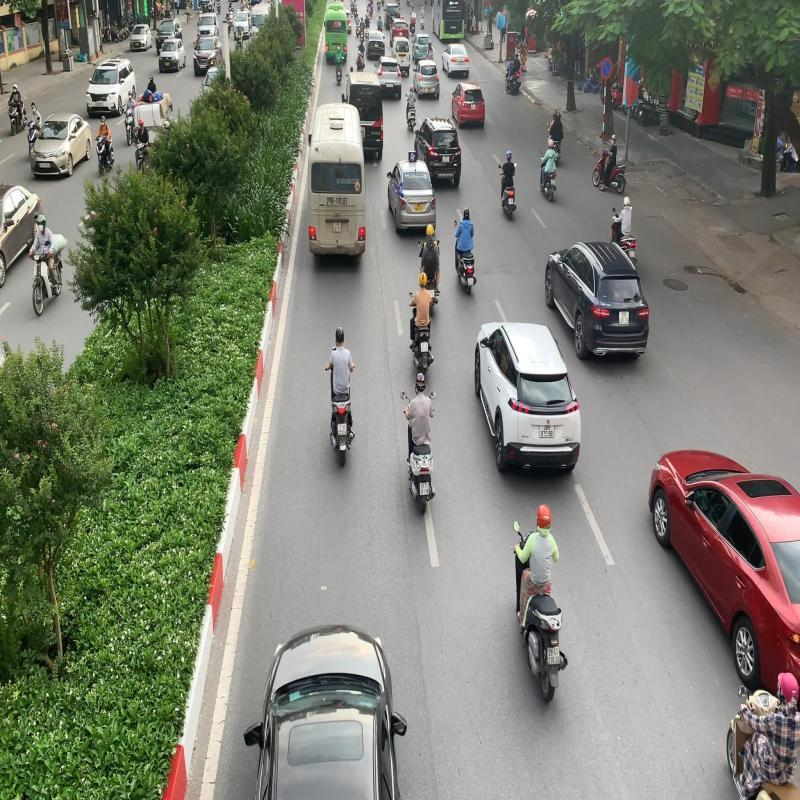helmet: (536, 502, 552, 530), (414, 370, 427, 392), (334, 325, 346, 346)
licenseplate: (546, 644, 561, 668), (336, 422, 348, 438), (419, 480, 430, 496)
motorcyclist: (510, 501, 569, 707), (397, 370, 438, 516), (324, 324, 356, 470)
